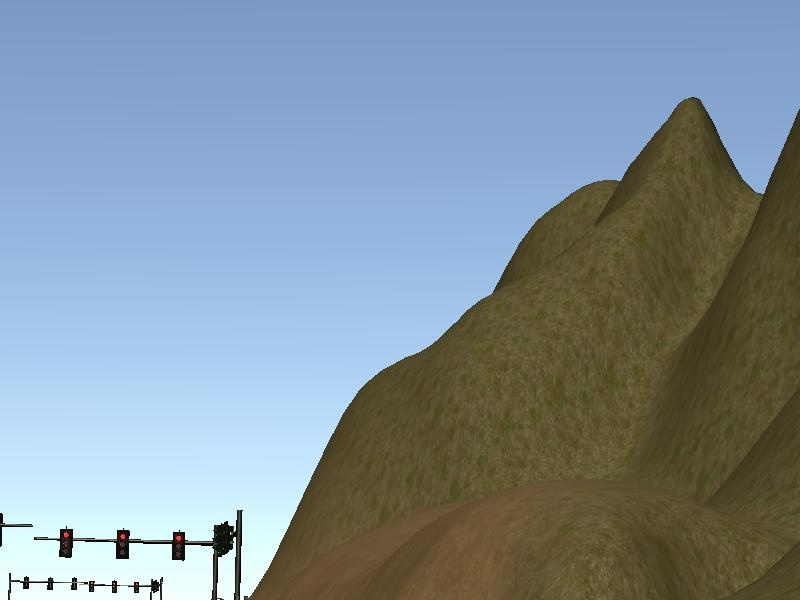red: (58, 524, 76, 558), (115, 527, 133, 561), (170, 532, 186, 561)
